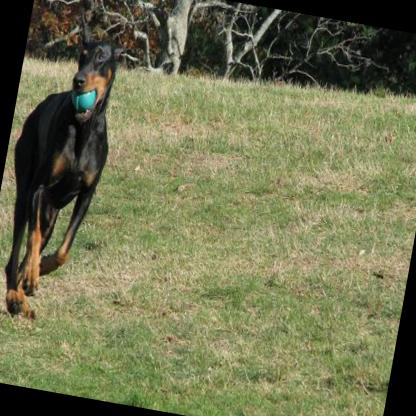Doberman: (0, 0, 133, 327)
